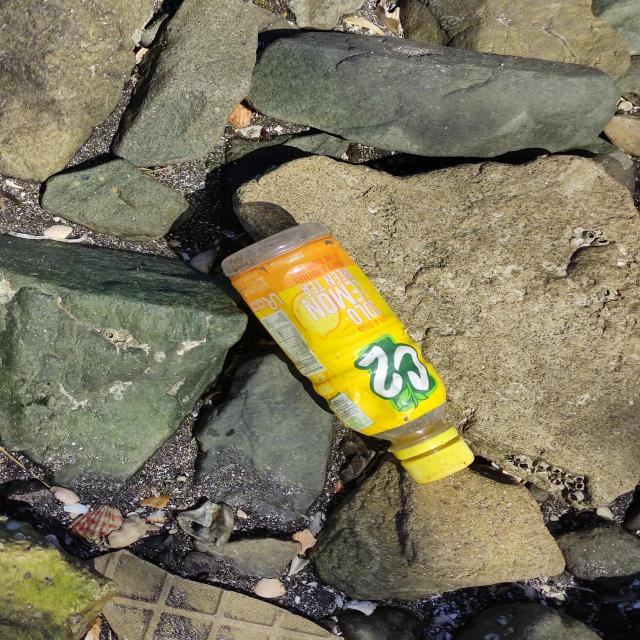plastic_waste: (222, 220, 478, 482)
